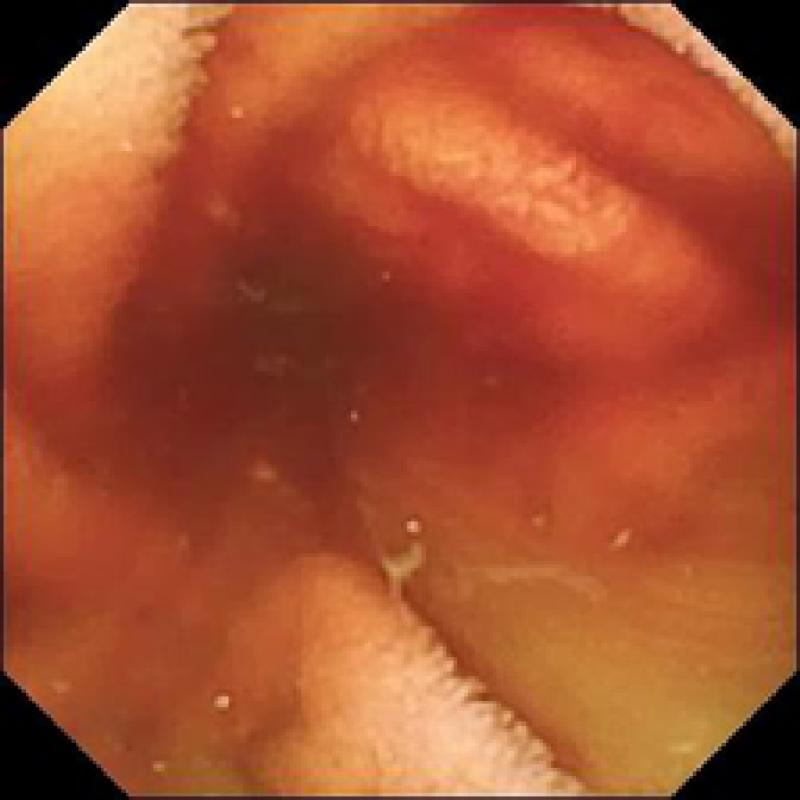bleeding: (42, 0, 789, 596)
